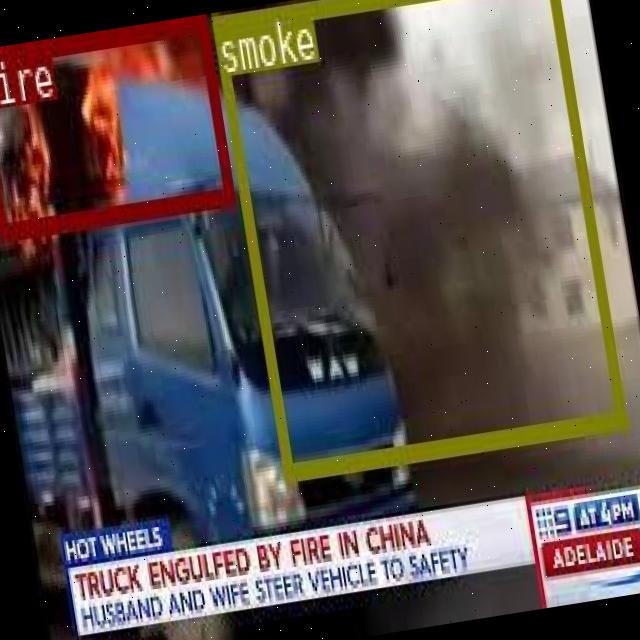fire: (0, 14, 233, 236)
smoke: (210, 0, 625, 479)
